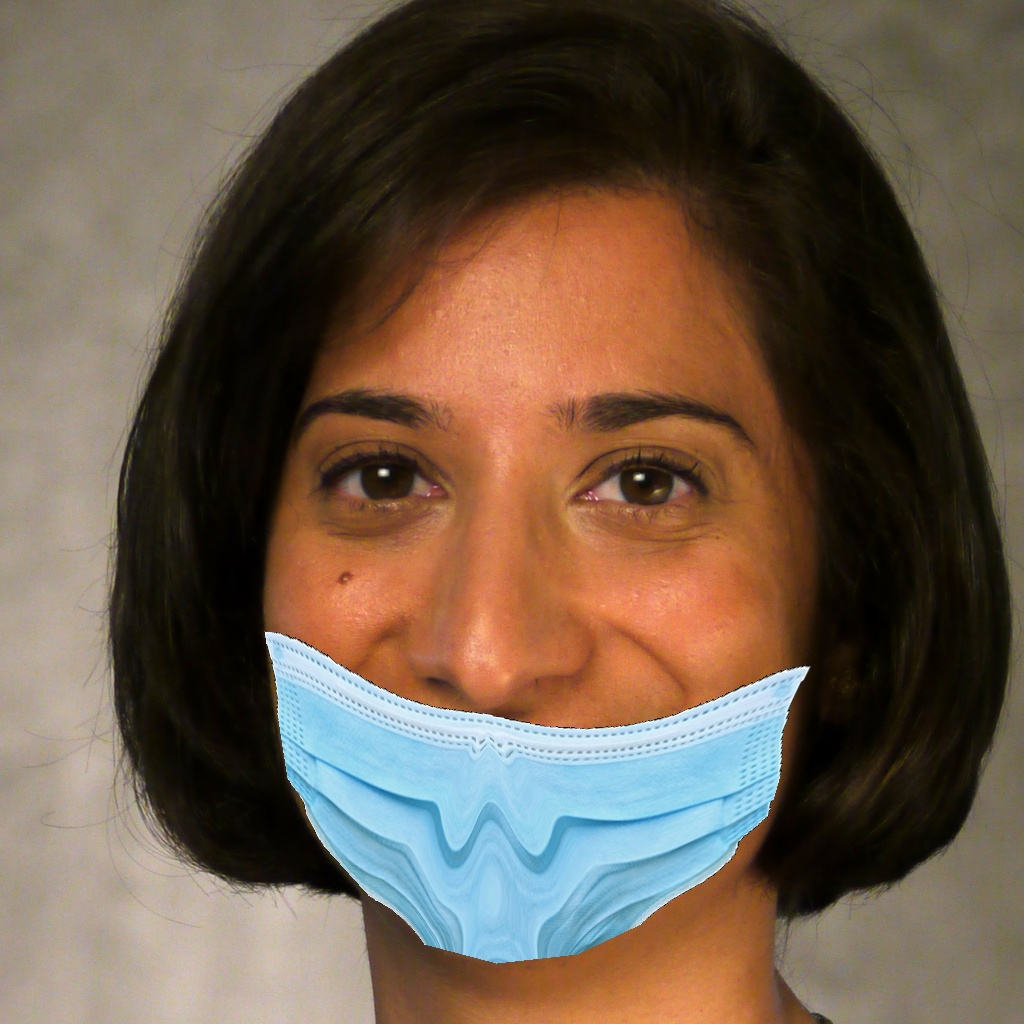mascarilla_mal_puesta: (227, 383, 852, 993)
